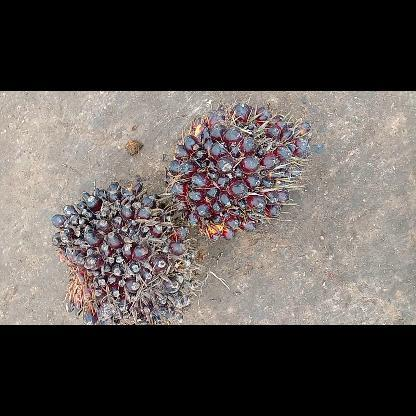TBS mentah: (158, 95, 318, 237), (47, 186, 199, 323)
